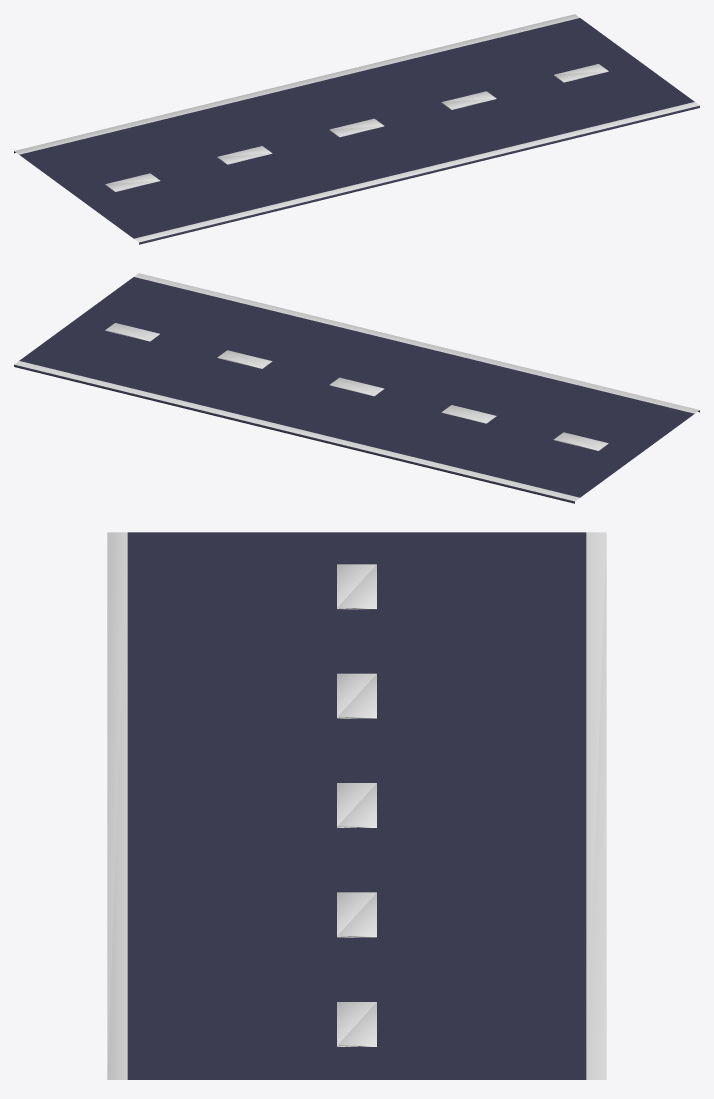
Rendered from road.dae.
3 renders of one model, top to bottom at view 1: azimuth 30°, elevation 25°; view 2: azimuth 150°, elevation 25°; view 3: azimuth 270°, elevation 25°, orthographic. The views are drawn at different scales.
Parts seen in each view (by area): view 1: Road; view 2: Road; view 3: Road.
Part boxes in pixels (box(x1,y1,x2,y2)): Road: box(14, 14, 699, 244); Road: box(14, 273, 699, 503); Road: box(107, 532, 606, 1079).
Bounding box in the file's own units: 127 × 48.96 × 0.643.
